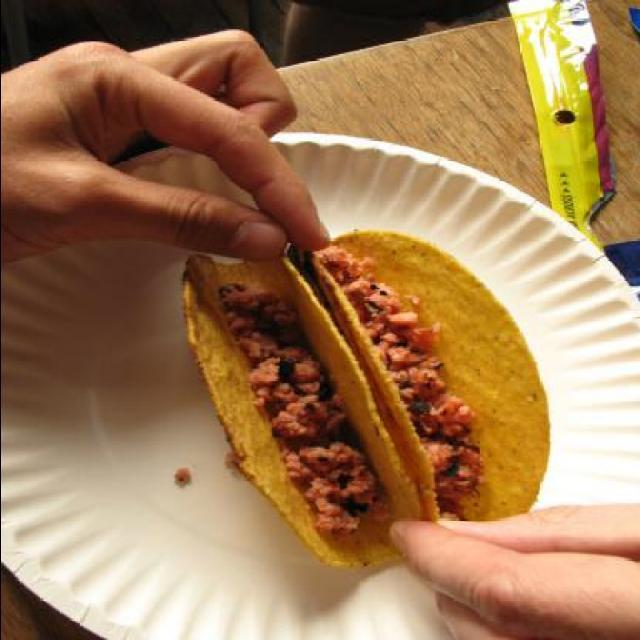Hot dog: (172, 224, 544, 542)
